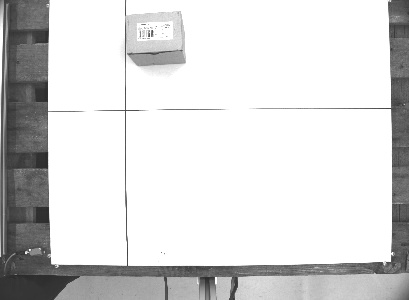b5: (122, 8, 191, 68)
